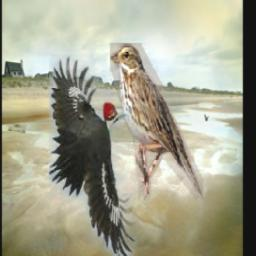Sparrow: (111, 43, 204, 201)
Woodpecker: (49, 54, 137, 256)
